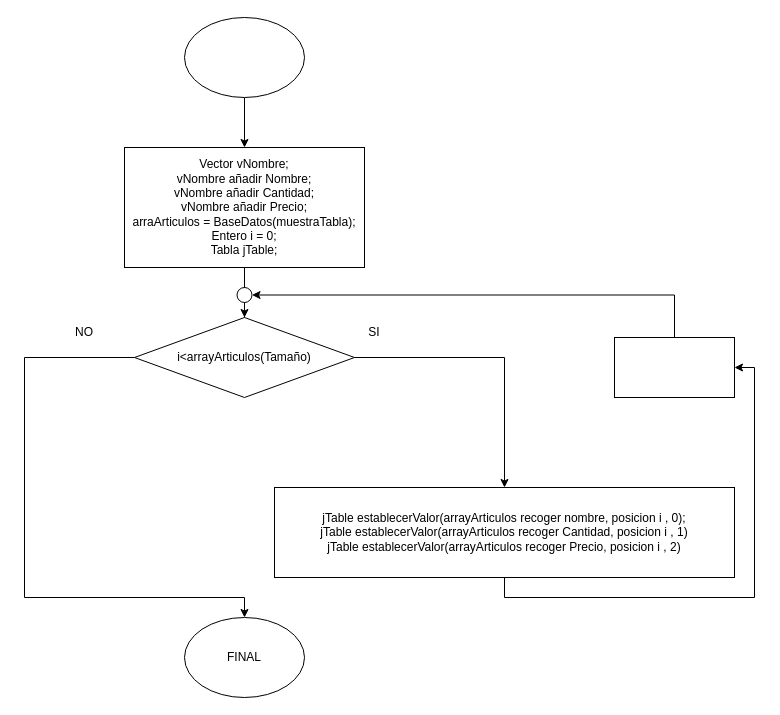
This 780x715 diagram has some shape labels left out. The shapes that lost their labels are listed below. From the top down, each one's box as (x1, y1, x2, y2) in pixels, then its label:
(184, 16, 304, 98): INICIO
(614, 336, 734, 398): i + 1;
